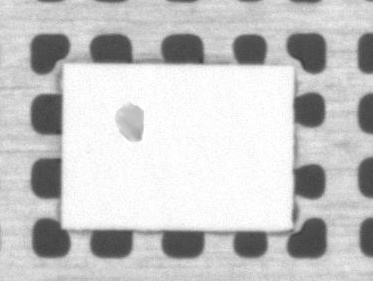DIE_INK: (110, 98, 145, 143)
